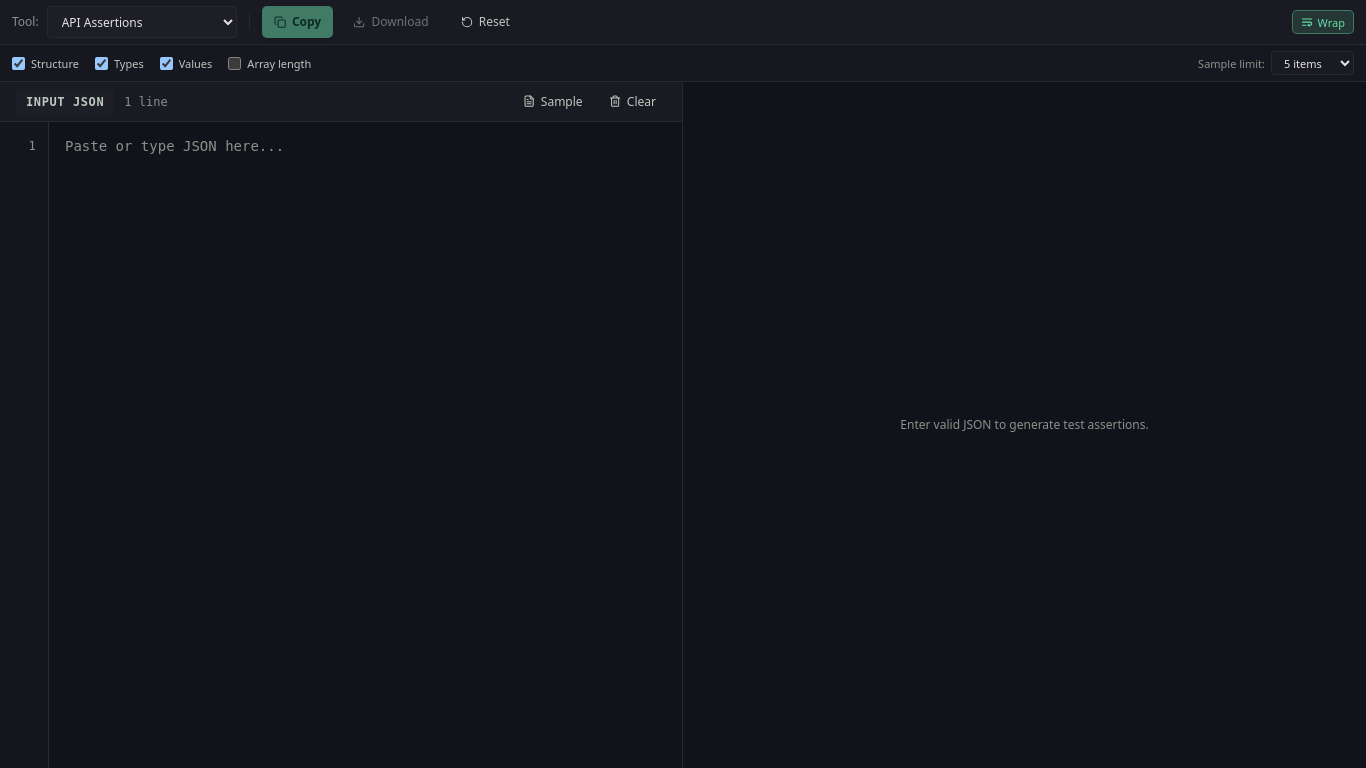
Scenario: Testing Feature Component Suite › loads sample JSON and generates API assertions
This screenshot has width=1366, height=768.
Click the button with test id "testing-input-sample-btn" at (553, 102), box [513, 89, 593, 114]
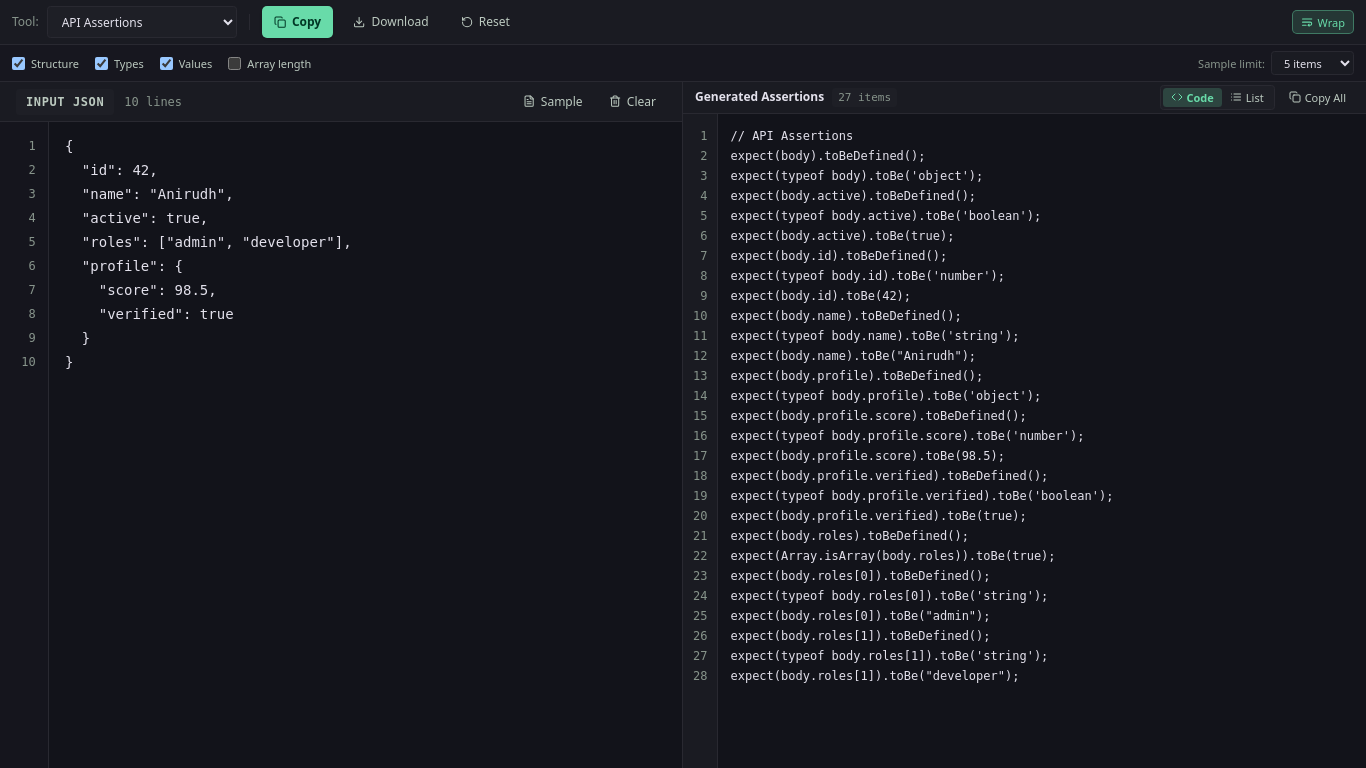
Now the element with test id "assertions-code-output" shows "// API Assertions", box [730, 128, 1113, 682]
Now the element with test id "assertions-code-output" shows "expect(body.id).toBe(42);", box [730, 128, 1113, 682]
